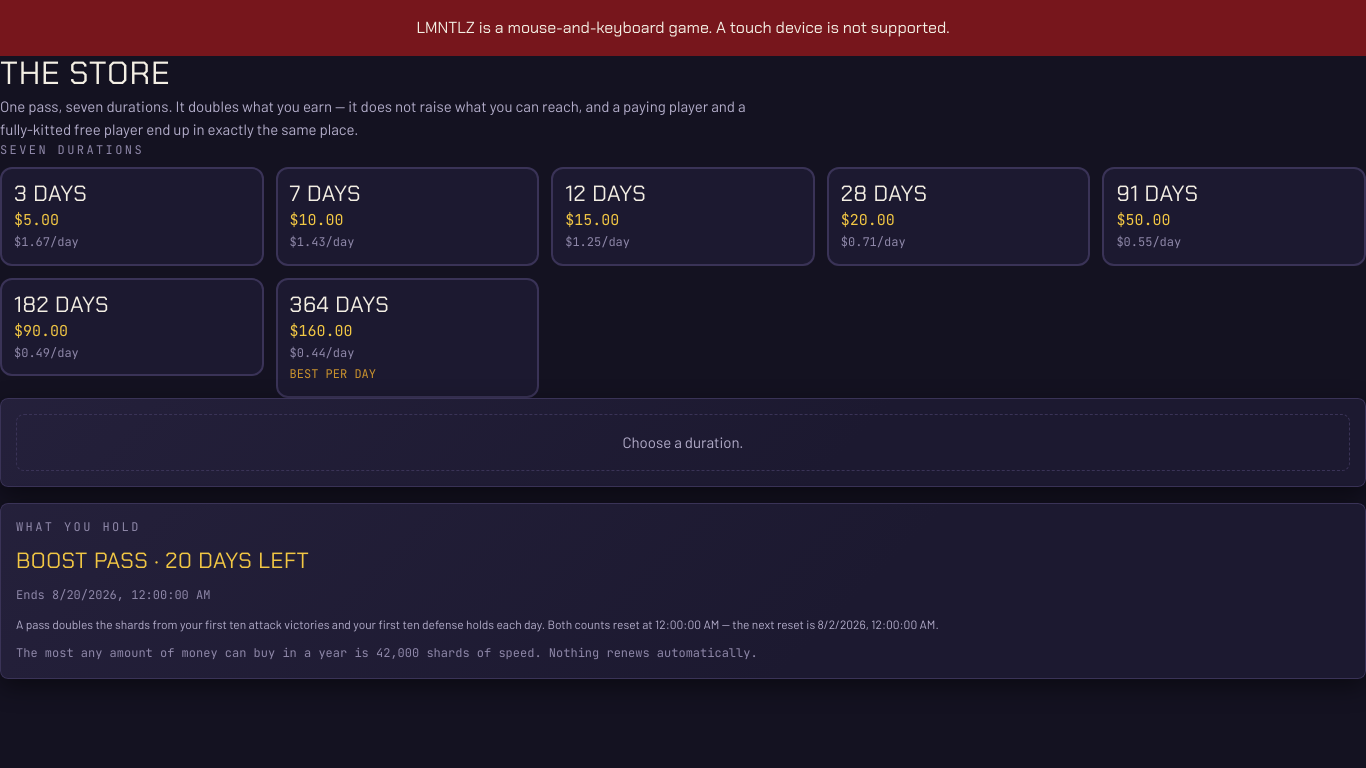
Test case: stacking is stated before the purchase, not after › says the days add rather than replace
Expected: the element "Seven durations" is shown, [0, 142, 1365, 398]
What coordinates should you click on to do the following:
click the button "7 days $10.00 $1.43/day"
I would click on:
 (331, 194)
Its box is [276, 167, 539, 266].
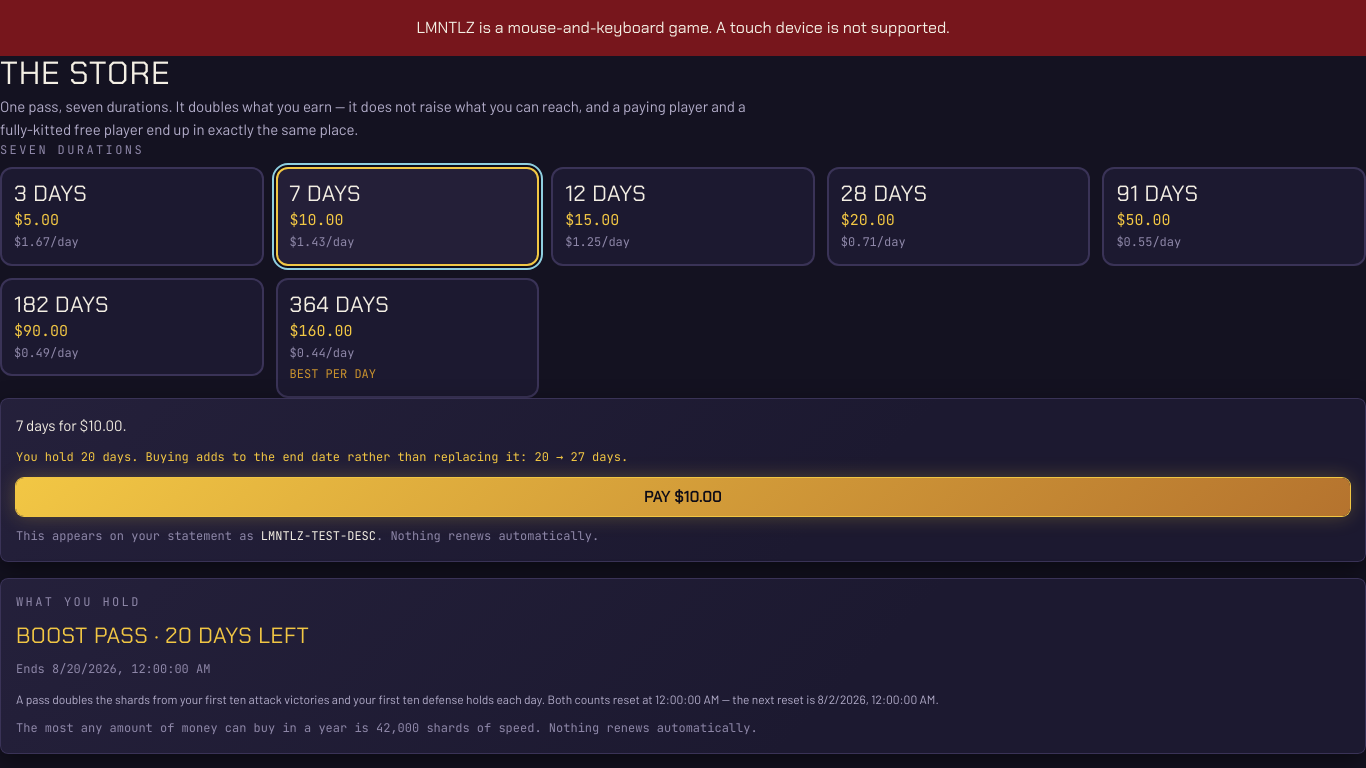
Expected: the element named "Checkout" shows "20", [81, 449, 95, 465]
Expected: the element named "Checkout" shows "27", [570, 449, 585, 465]
Expected: the element named "Checkout" shows "adds to the end date", [95, 449, 534, 465]
